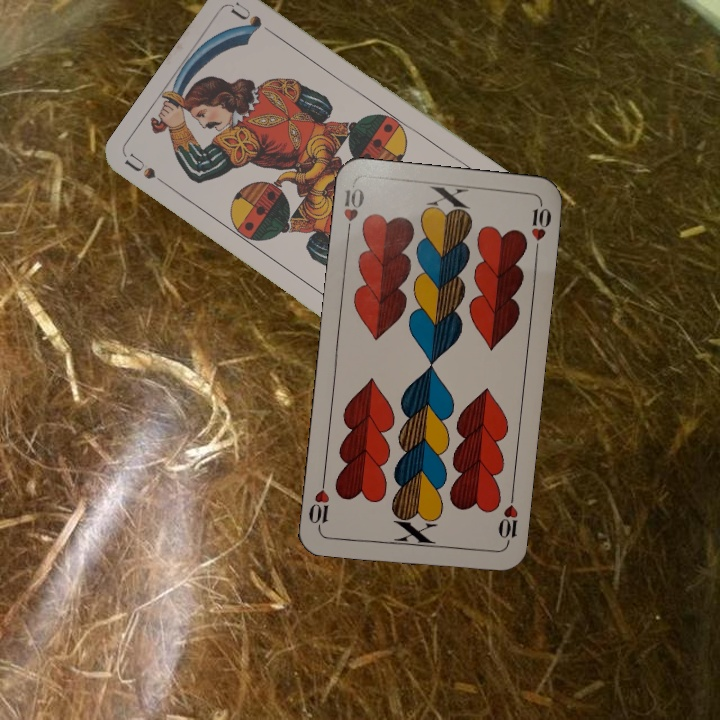H10: (494, 489, 521, 549), (340, 184, 367, 241)
SU: (122, 150, 176, 193)
